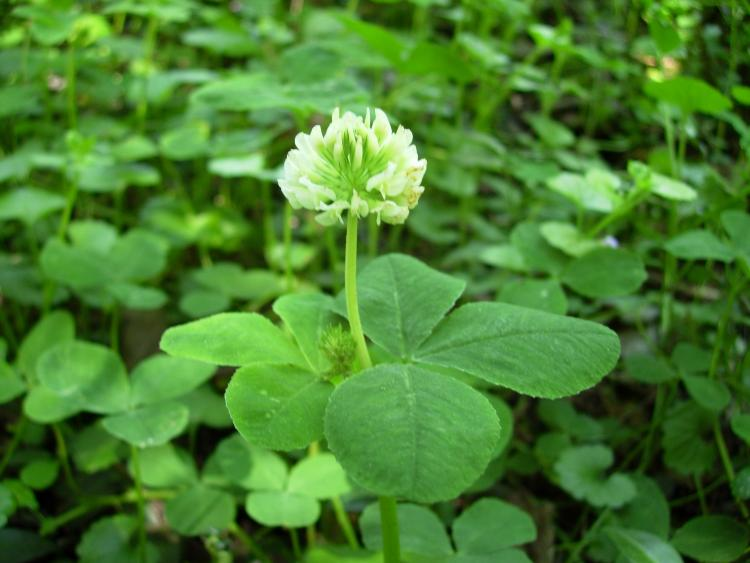clover: (333, 249, 623, 507)
clover blossom white: (269, 100, 429, 227)
